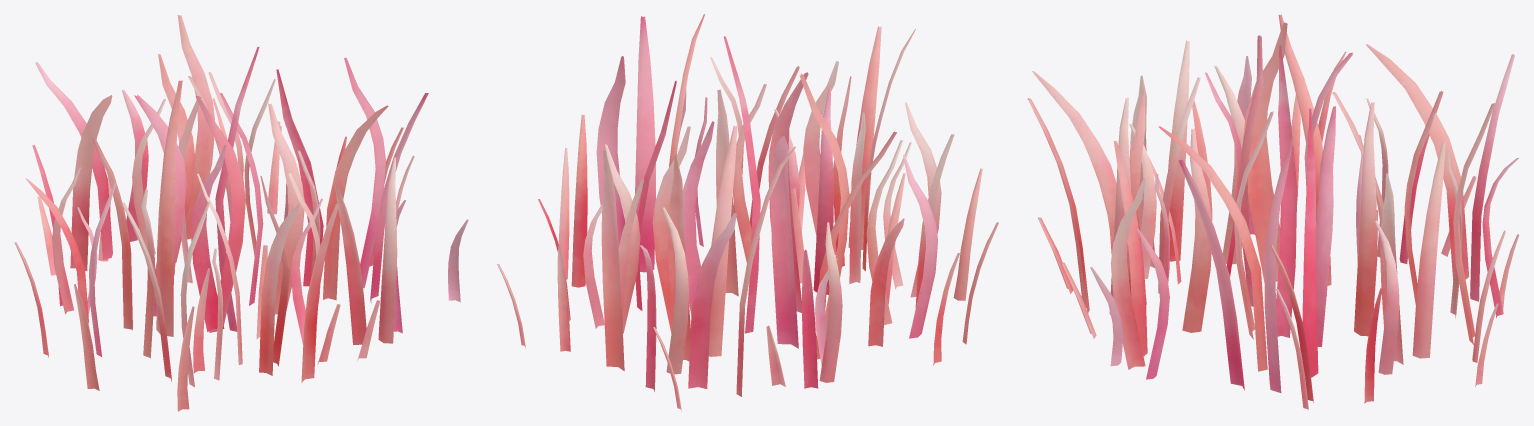
The model's file is grass.glb.
The picture shows the model from 3 angles, left to right: view 1: azimuth 30°, elevation 25°; view 2: azimuth 150°, elevation 25°; view 3: azimuth 270°, elevation 25°; orthographic projection. The views are drawn at different scales.
Parts seen in each view (by area): view 1: grass_01; view 2: grass_01; view 3: grass_01.
Boxes of the visible parts, box(x1,y1,x2,y2) form: grass_01: box(14, 15, 468, 411); grass_01: box(497, 14, 998, 411); grass_01: box(1027, 14, 1519, 410).
Bounding box in the file's own units: 0.305 × 0.207 × 0.3028.
Materials: 1 (1 with a texture image).
